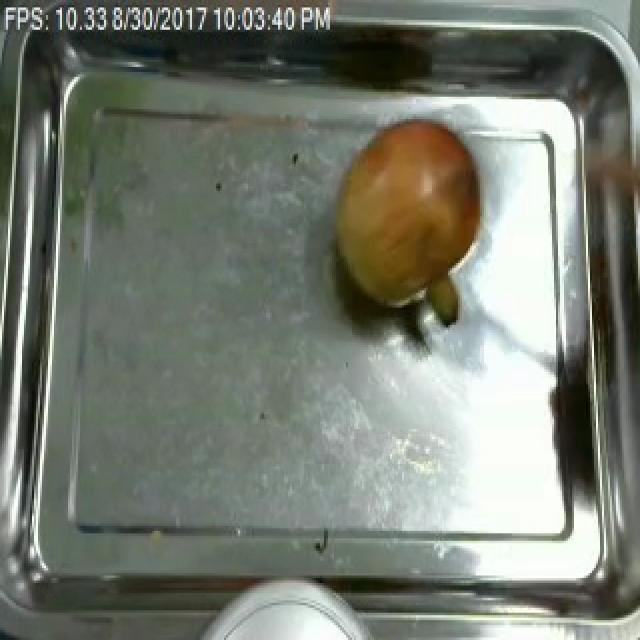fruit: (324, 106, 484, 328)
